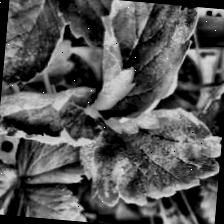Powdery Mildew Leaf: (74, 98, 224, 217), (89, 0, 200, 129), (0, 79, 108, 151)
